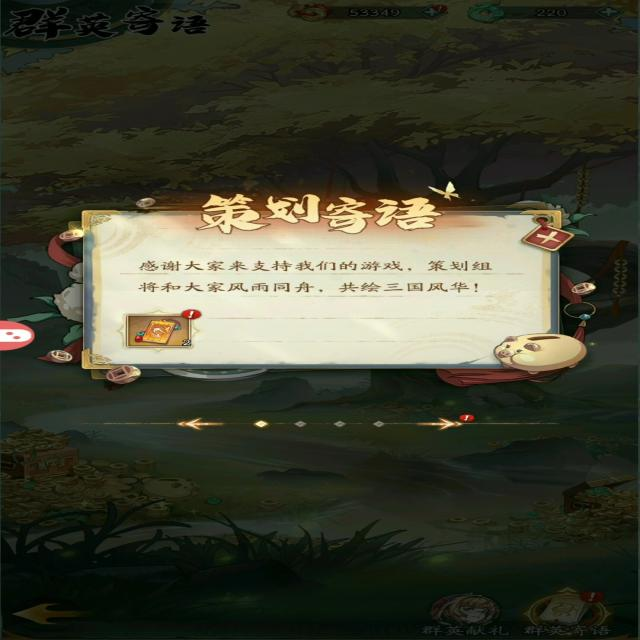hint-reddot: (172, 302, 227, 326), (456, 410, 494, 423)
operation-close: (510, 220, 580, 259)
operation-confirm: (119, 310, 208, 351)
operation-enter: (172, 412, 213, 437), (419, 413, 456, 434)
